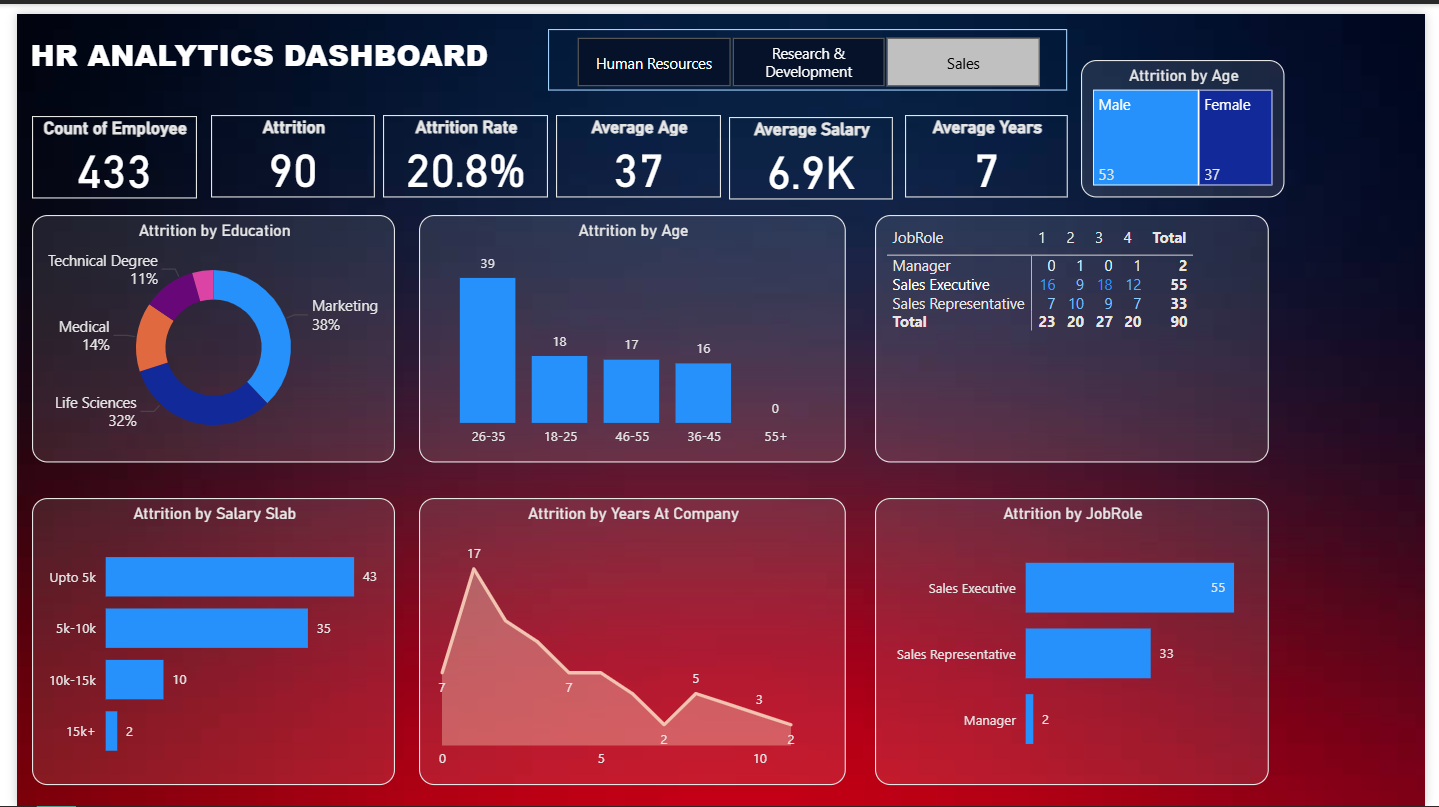

What the dashboard file says about the page in this screenshot:
{"tool":"powerbi","page":{"name":"Page 1","canvas":[1280,720],"ordinal":0},"visuals":[{"type":"card","title":"Count of Employee","fields":{"Values":["Count(HR_Analytics.EmpID)"]},"box":[13.6,92.9,149.8,74.9],"z":0},{"type":"card","title":"Attrition","fields":{"Values":["Sum(HR_Analytics.AttritionCount)"]},"box":[176,92,149,75],"z":1000},{"type":"card","title":"Attrition Rate","fields":{"Values":["HR_Analytics.AttritionRate"]},"box":[333,92,150,75],"z":2000},{"type":"card","title":"Average Age","fields":{"Values":["Avg(HR_Analytics.Age)"]},"box":[490,92,150,75],"z":3000},{"type":"card","title":"Average Years","fields":{"Values":["Avg(HR_Analytics.YearsAtCompany)"]},"box":[807,92,148,75],"z":4000},{"type":"card","title":"Average Salary","fields":{"Values":["Avg(HR_Analytics.MonthlyIncome)"]},"box":[647,94,149,75],"z":5000},{"type":"donutChart","title":"Attrition by Education","fields":{"Category":["HR_Analytics.EducationField"],"Y":["Sum(HR_Analytics.AttritionCount)"]},"box":[14,183,330,225],"z":6000},{"type":"columnChart","title":"Attrition by Age","fields":{"Category":["HR_Analytics.AgeGroup"],"Y":["Sum(HR_Analytics.AttritionCount)"]},"box":[365,183,388,225],"z":7000},{"type":"pivotTable","fields":{"Rows":["HR_Analytics.JobRole"],"Columns":["HR_Analytics.JobSatisfaction"],"Values":["Sum(HR_Analytics.AttritionCount)"]},"box":[780,183,358,225],"z":8000},{"type":"barChart","title":"Attrition by Salary Slab","fields":{"Category":["HR_Analytics.SalarySlab"],"Y":["Sum(HR_Analytics.AttritionCount)"]},"box":[14,440,330,261],"z":9000},{"type":"barChart","title":"Attrition by JobRole","fields":{"Y":["Sum(HR_Analytics.AttritionCount)"],"Category":["HR_Analytics.JobRole"]},"box":[780,440,358,261],"z":10000},{"type":"areaChart","title":"Attrition by Years At Company","fields":{"Category":["HR_Analytics.YearsAtCompany"],"Y":["Sum(HR_Analytics.AttritionCount)"]},"box":[365,440,388,261],"z":11000},{"type":"treemap","title":"Attrition by Age","fields":{"Group":["HR_Analytics.Gender"],"Values":["Sum(HR_Analytics.AttritionCount)"]},"box":[967,42,185,125],"z":12000},{"type":"slicer","fields":{"Values":["HR_Analytics.Department"]},"box":[483,14,472,56],"z":13000},{"type":"textbox","box":[7,14,461,56],"z":14000}]}

Visuals, with their boxes in screenshot pixels (x1, y1, x2, y2), scaled from the page's 1280x720 canvas onto the 1439x807 screenshot:
"Count of Employee" card: select_region(15, 104, 184, 188)
"Attrition" card: select_region(198, 103, 365, 187)
"Attrition Rate" card: select_region(374, 103, 543, 187)
"Average Age" card: select_region(551, 103, 720, 187)
"Average Years" card: select_region(907, 103, 1074, 187)
"Average Salary" card: select_region(727, 105, 895, 189)
"Attrition by Education" donutChart: select_region(16, 205, 387, 457)
"Attrition by Age" columnChart: select_region(410, 205, 847, 457)
pivotTable - HR_Analytics.JobRole x HR_Analytics.JobSatisfaction: select_region(877, 205, 1279, 457)
"Attrition by Salary Slab" barChart: select_region(16, 493, 387, 786)
"Attrition by JobRole" barChart: select_region(877, 493, 1279, 786)
"Attrition by Years At Company" areaChart: select_region(410, 493, 847, 786)
"Attrition by Age" treemap: select_region(1087, 47, 1295, 187)
slicer - HR_Analytics.Department: select_region(543, 16, 1074, 78)
textbox: select_region(8, 16, 526, 78)
